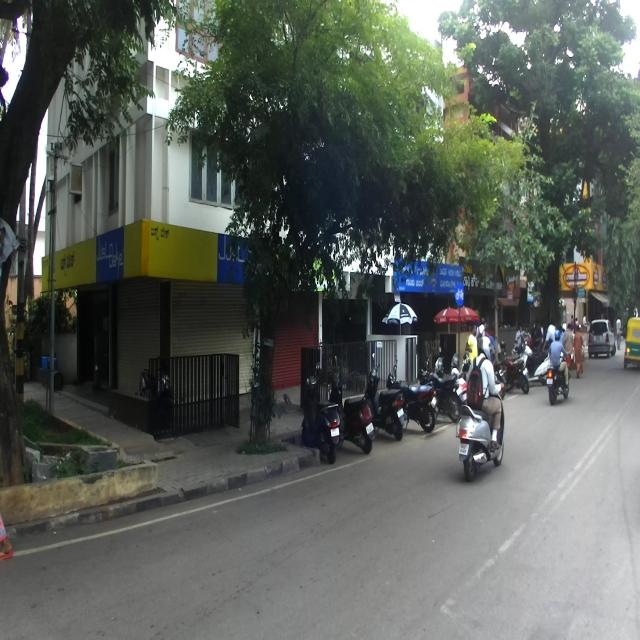Car_Hyundai: (586, 316, 616, 357)
scooter: (455, 369, 507, 483), (329, 356, 381, 452), (299, 358, 341, 466), (365, 351, 409, 438)
